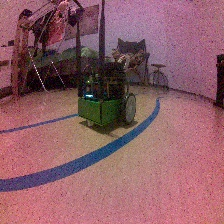rob: (76, 61, 136, 128)
